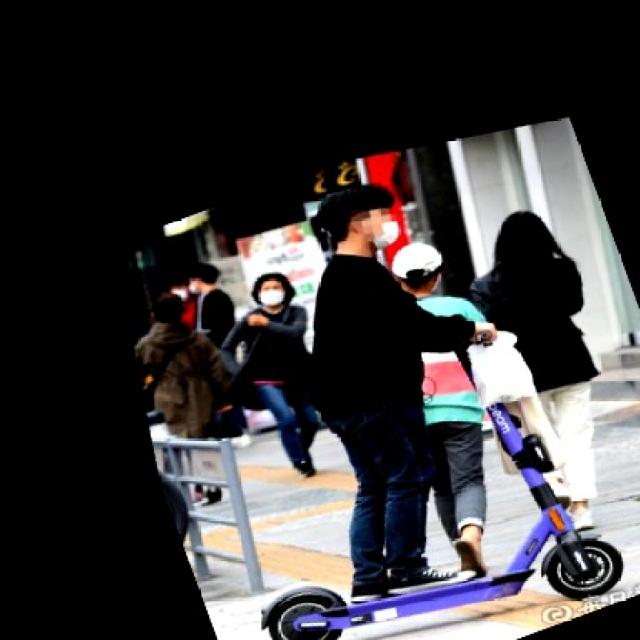bare_head: (302, 178, 417, 252)
human: (298, 173, 469, 581)
kickboard: (268, 526, 636, 640)
